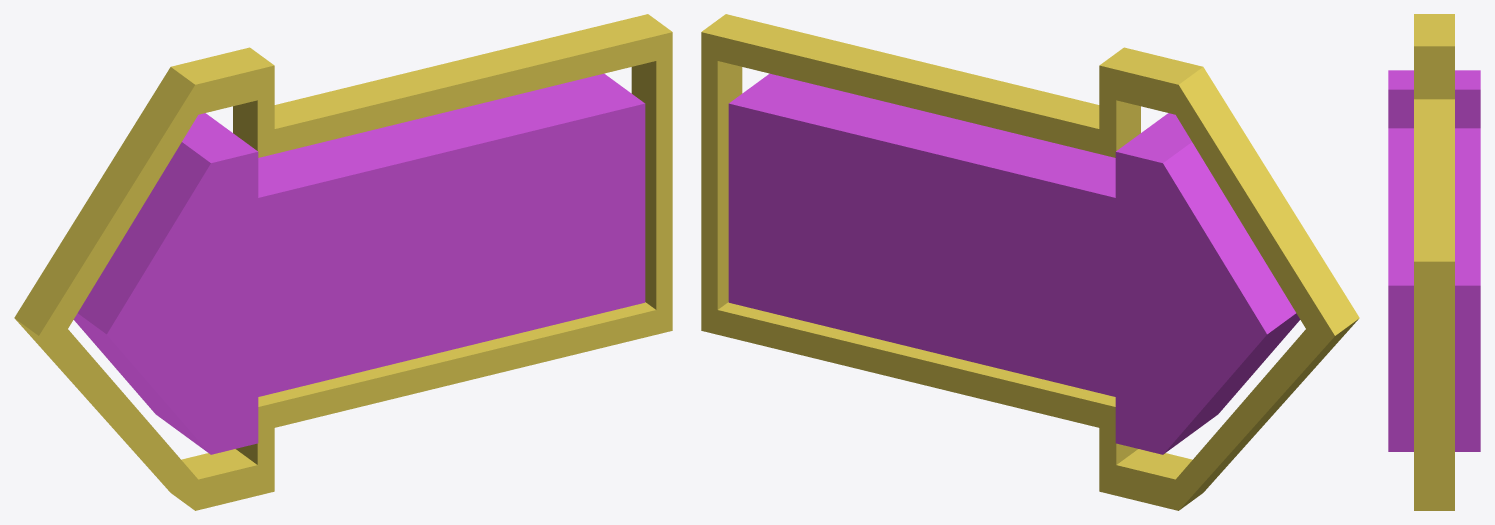
Rendered from SM_Arrow.fbx.
The picture shows the model from 3 angles, left to right: view 1: azimuth 30°, elevation 25°; view 2: azimuth 150°, elevation 25°; view 3: azimuth 270°, elevation 25°; orthographic projection. The views are drawn at different scales.
Visible parts, largest first — view 1: Cube.002, Cube.001; view 2: Cube.002, Cube.001; view 3: Cube.001, Cube.002.
Part boxes in pixels (x1,y1,x2,y2): Cube.002: (73,73,645,454); Cube.001: (14,14,672,510); Cube.002: (728,73,1300,454); Cube.001: (701,14,1359,510); Cube.001: (1414,14,1454,510); Cube.002: (1388,70,1480,451).
Size of the model in its own units: 533 by 342 by 80.62.
